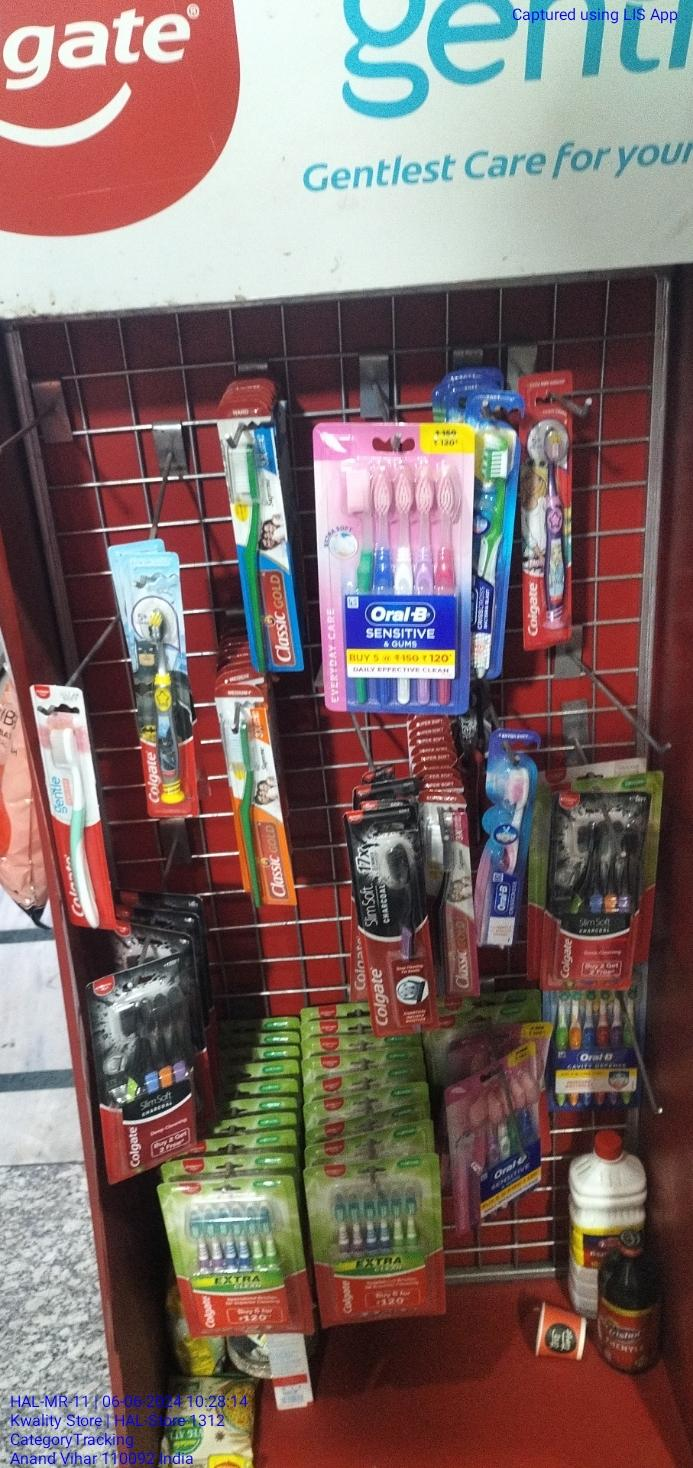soap: (362, 810, 435, 1034)
